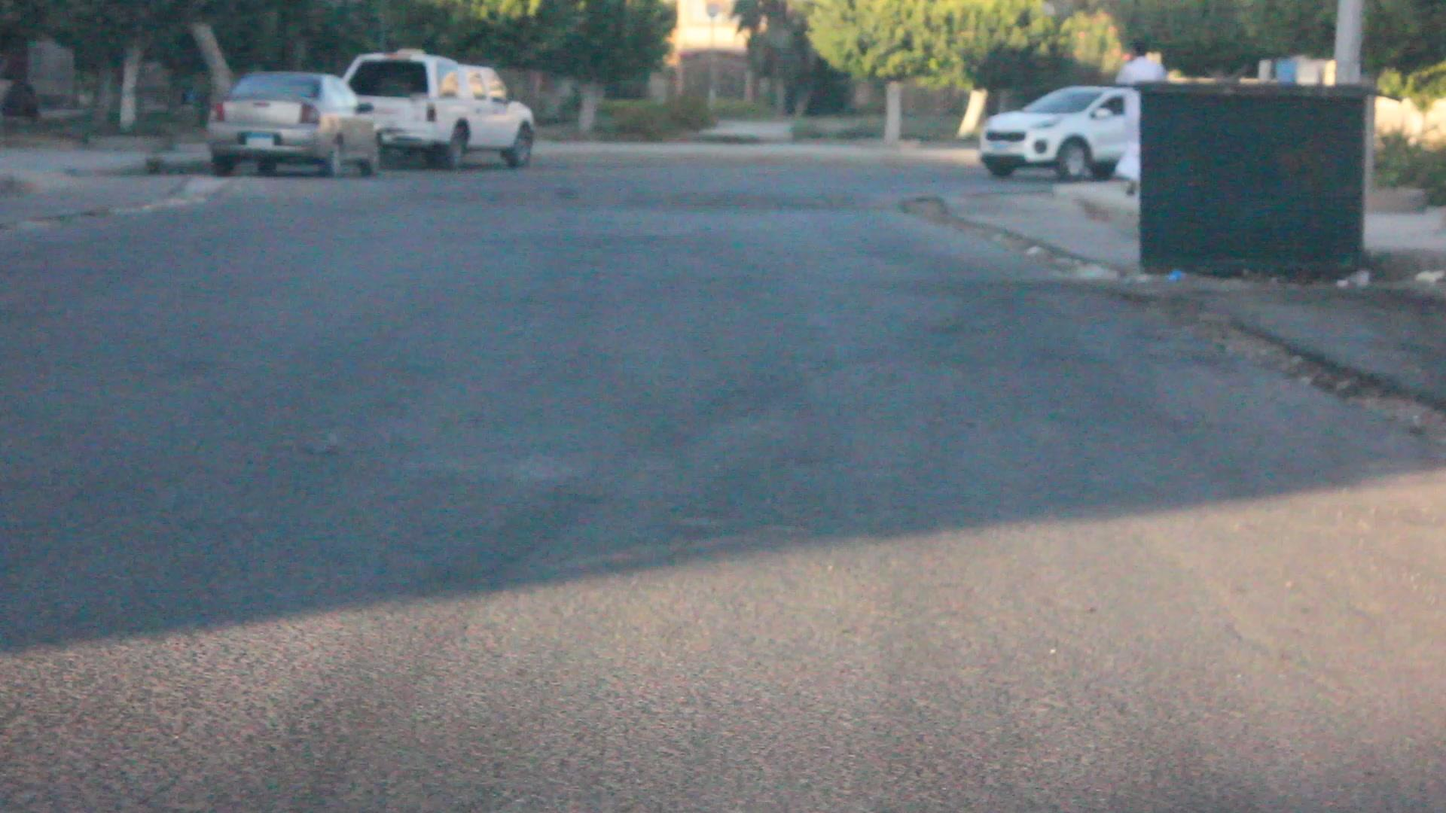Bump: (128, 171, 909, 209)
